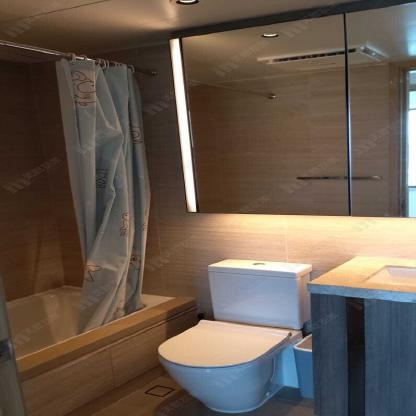Toilet: (156, 258, 312, 412)
Toilet Sink: (306, 255, 415, 302)
